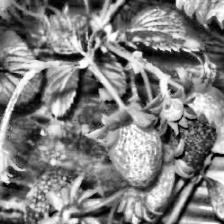Powdery Mildew Fruit: (160, 81, 224, 161), (102, 106, 163, 189), (124, 136, 176, 224)
